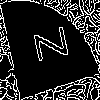Z: (25, 25, 69, 67)
